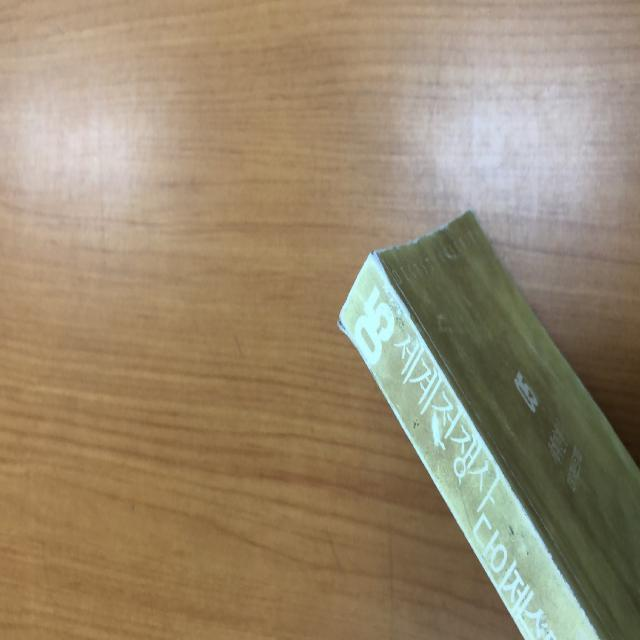Ripped: (368, 236, 412, 321), (335, 300, 375, 379)
Wornout: (546, 546, 602, 639), (411, 215, 458, 247)
